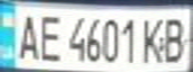0: (103, 15, 121, 64)
1: (121, 15, 142, 64)
4: (63, 11, 87, 62)
6: (84, 14, 106, 63)
A: (9, 9, 42, 61)
B: (157, 12, 193, 64)
E: (33, 10, 63, 62)
K: (139, 13, 169, 64)
